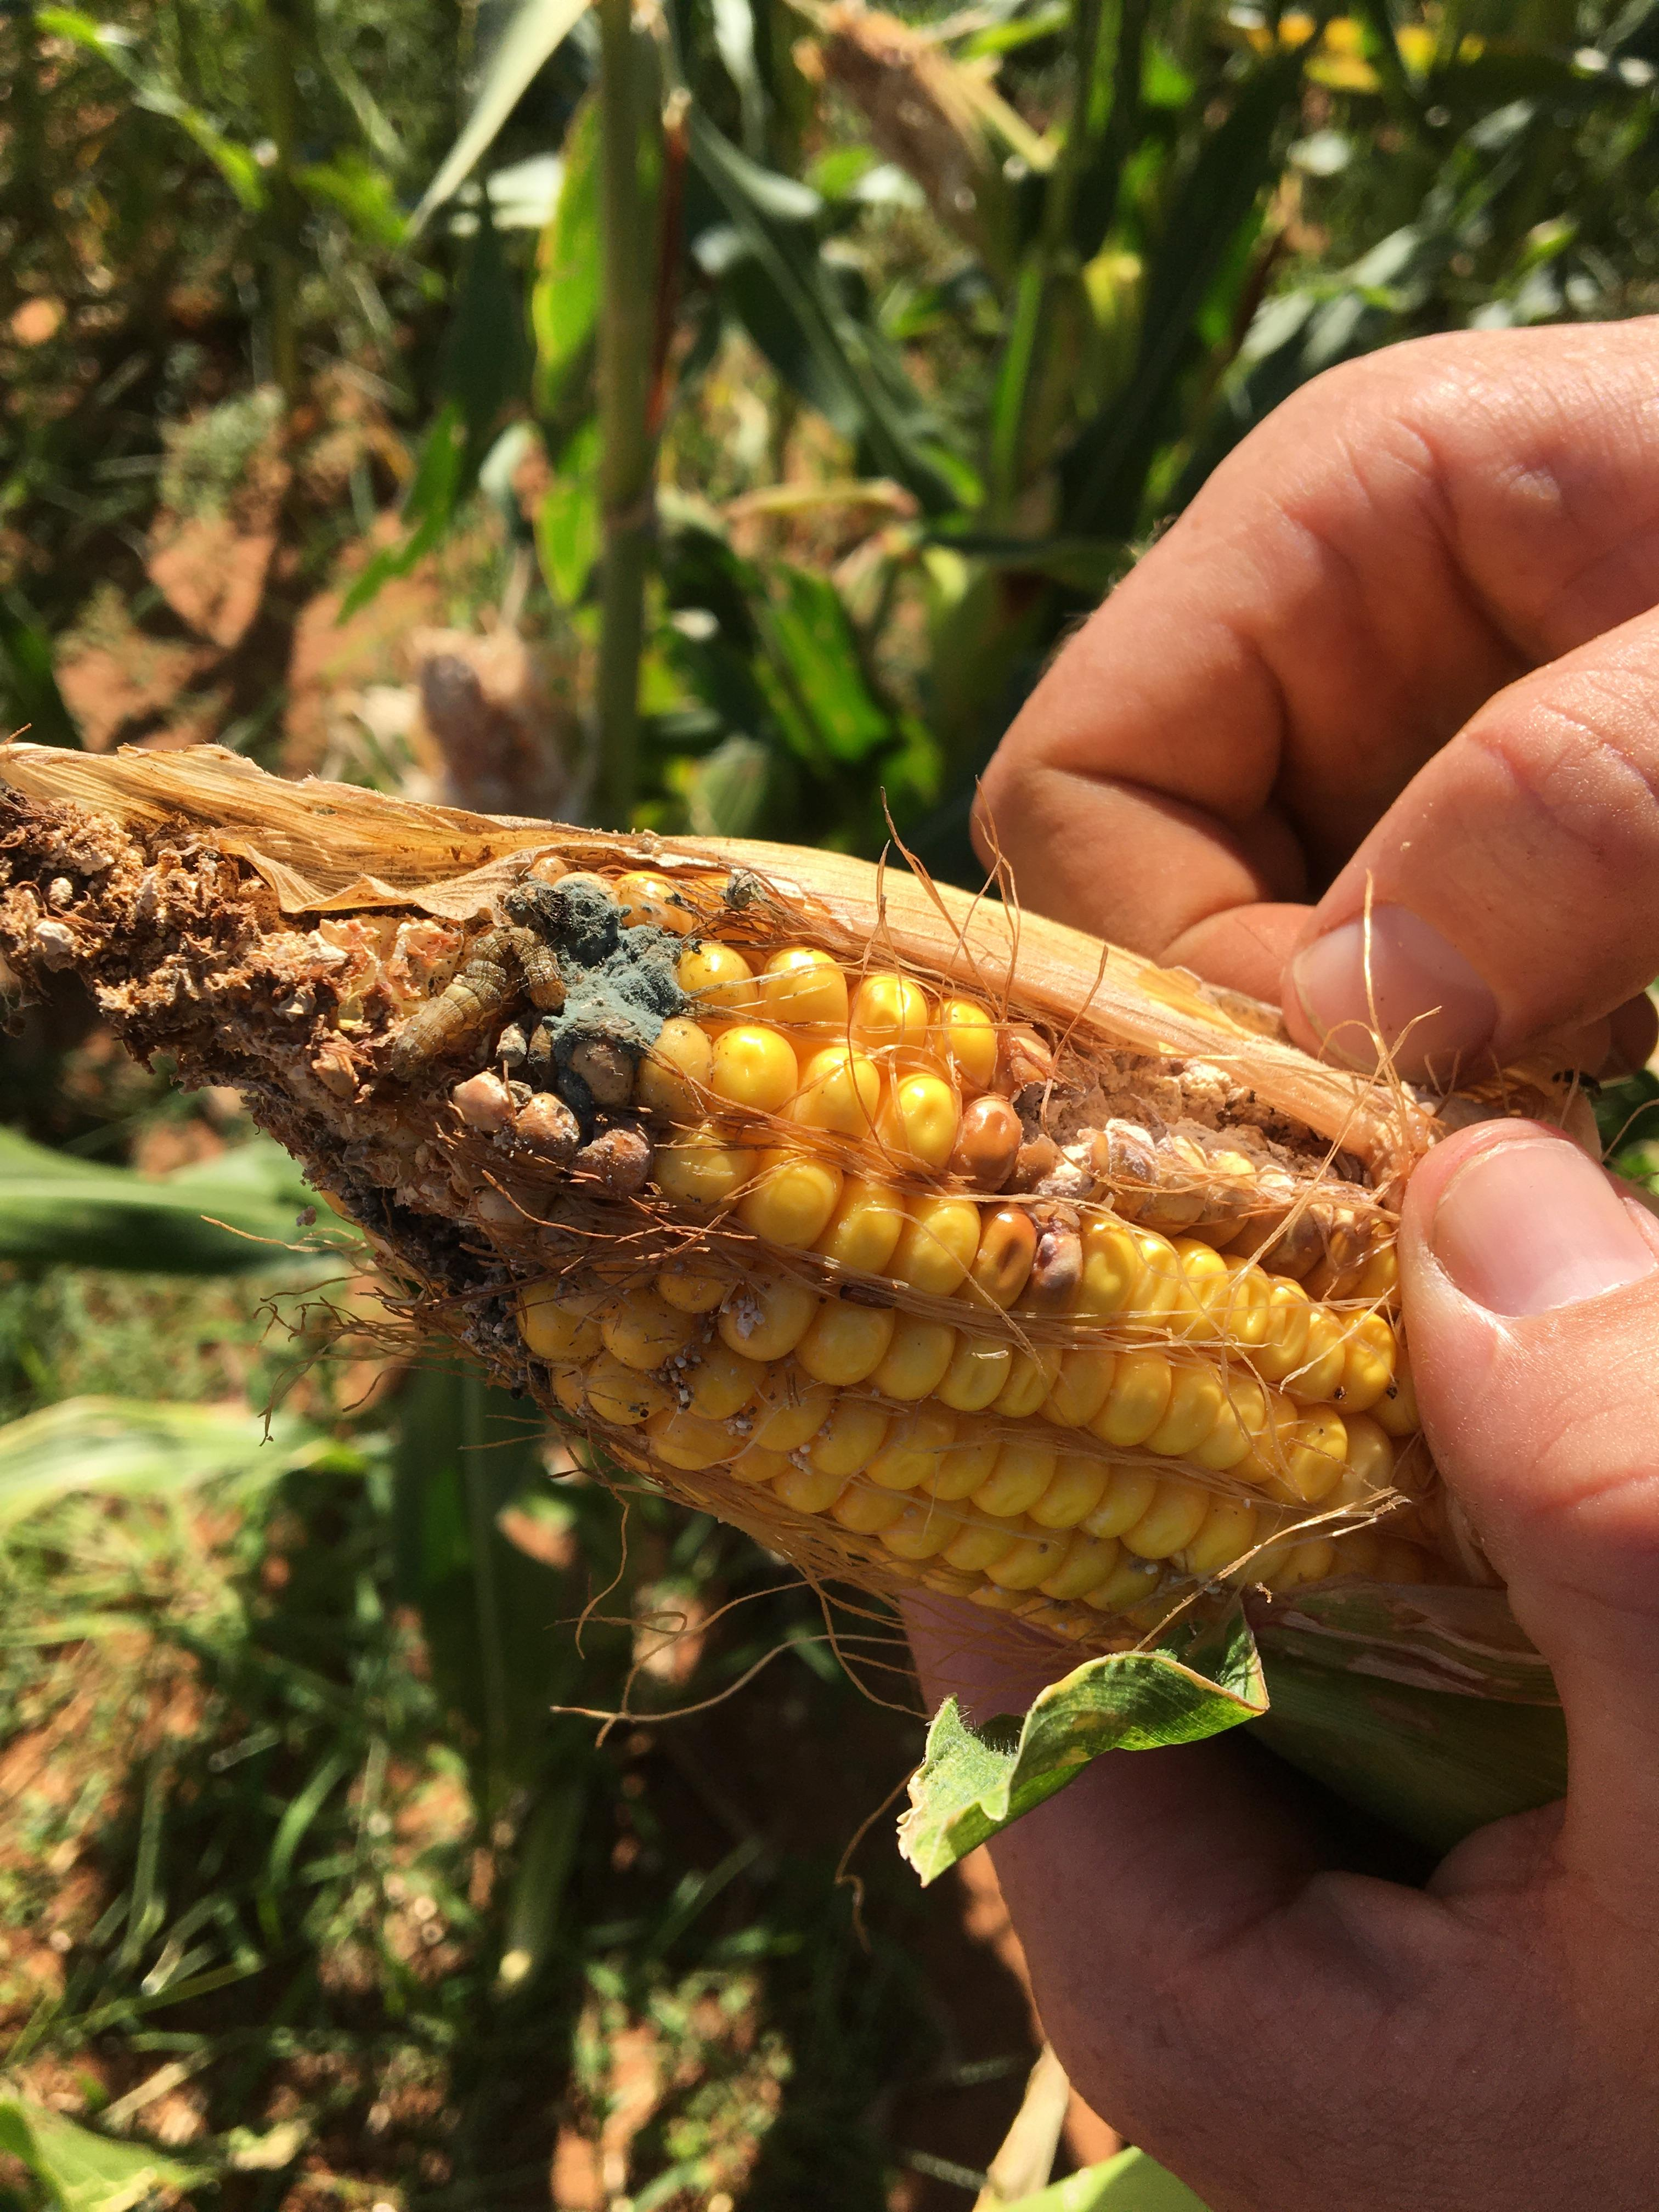Maize-fall-armyworm: (0, 528, 1246, 1672)
